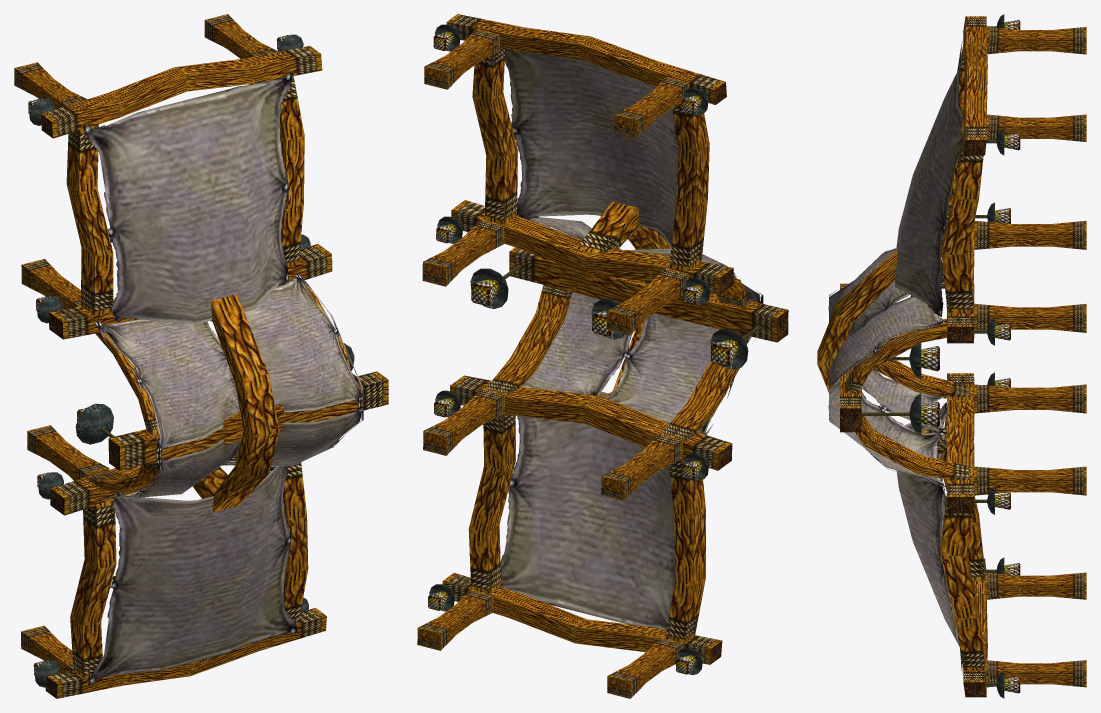
Rendered from LVL_RIV_INST_LARGE_TENT.fbx.
3 views of the same model, side by side, from view 1: azimuth 30°, elevation 25°; view 2: azimuth 150°, elevation 25°; view 3: azimuth 270°, elevation 25° (orthographic). The views are drawn at different scales.
Visible parts, largest first — view 1: LVL_RIV_INST_LARGE_TENT; view 2: LVL_RIV_INST_LARGE_TENT; view 3: LVL_RIV_INST_LARGE_TENT.
Boxes of the visible parts, x1,y1,x2,y2 form: LVL_RIV_INST_LARGE_TENT: [14, 14, 388, 698]; LVL_RIV_INST_LARGE_TENT: [417, 14, 788, 698]; LVL_RIV_INST_LARGE_TENT: [817, 14, 1086, 698].
Size of the model in its own units: 60801 by 124141 by 52450.
7 materials, 7 textured.
